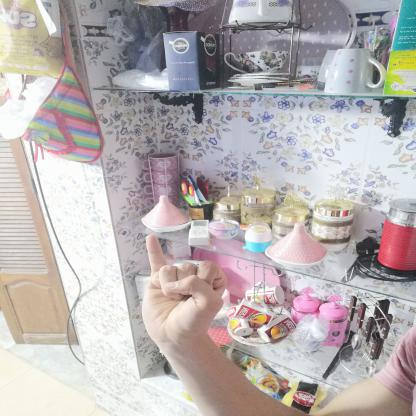MEEM: (129, 223, 235, 346)
